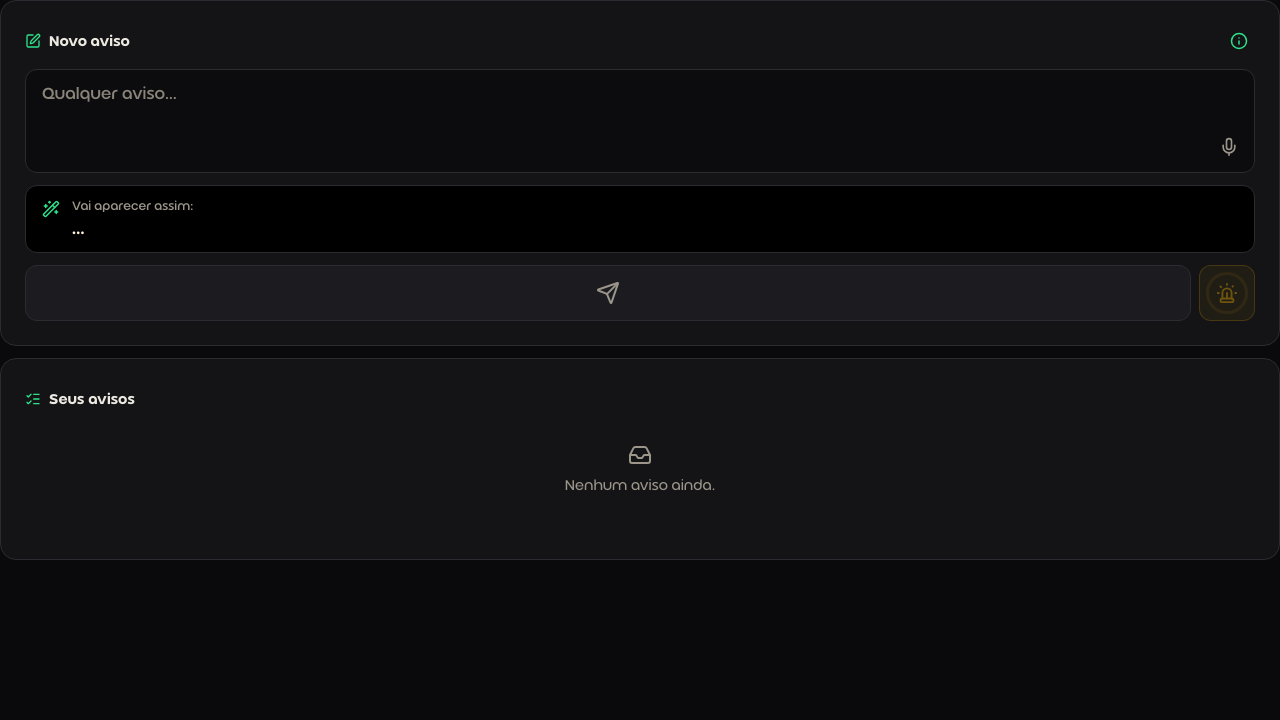
SendTab: campo e prévia › admin sem placa: selo aviso livre
The image size is (1280, 720).
Click the text box labelled "Novo aviso": (640,121) [25,69,1255,173]
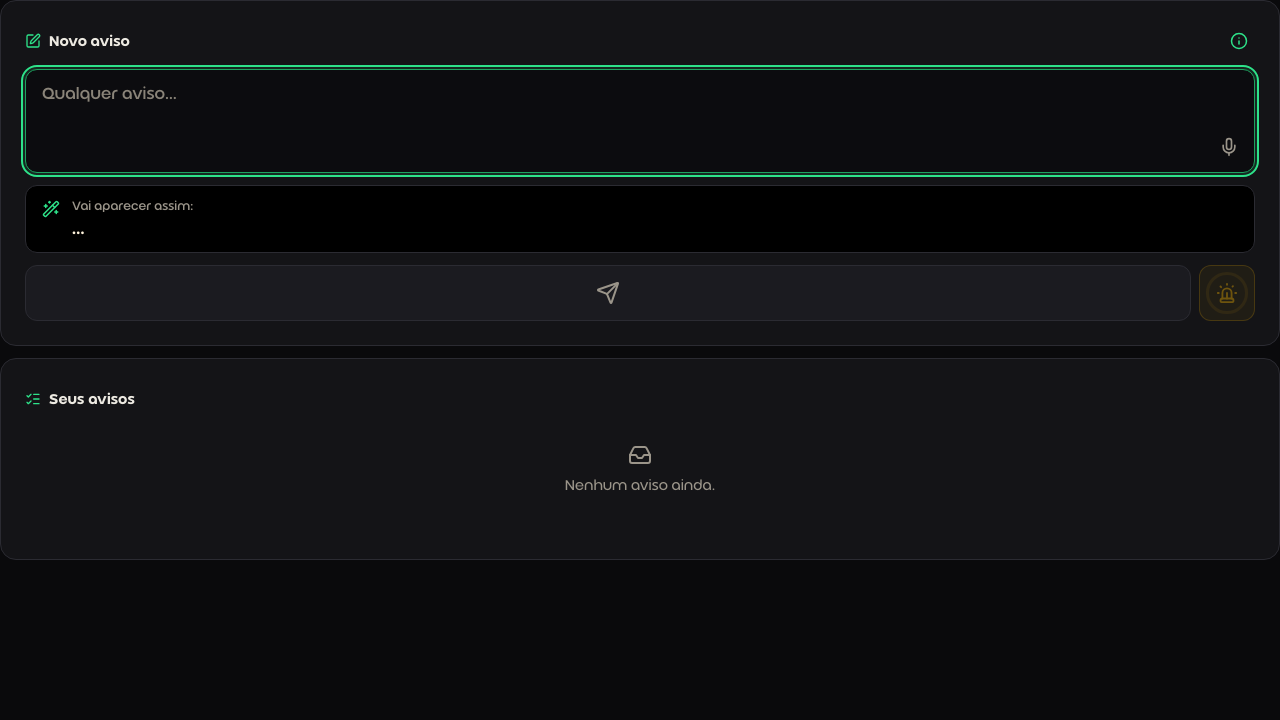
Type keys "pais do pedro chegou"
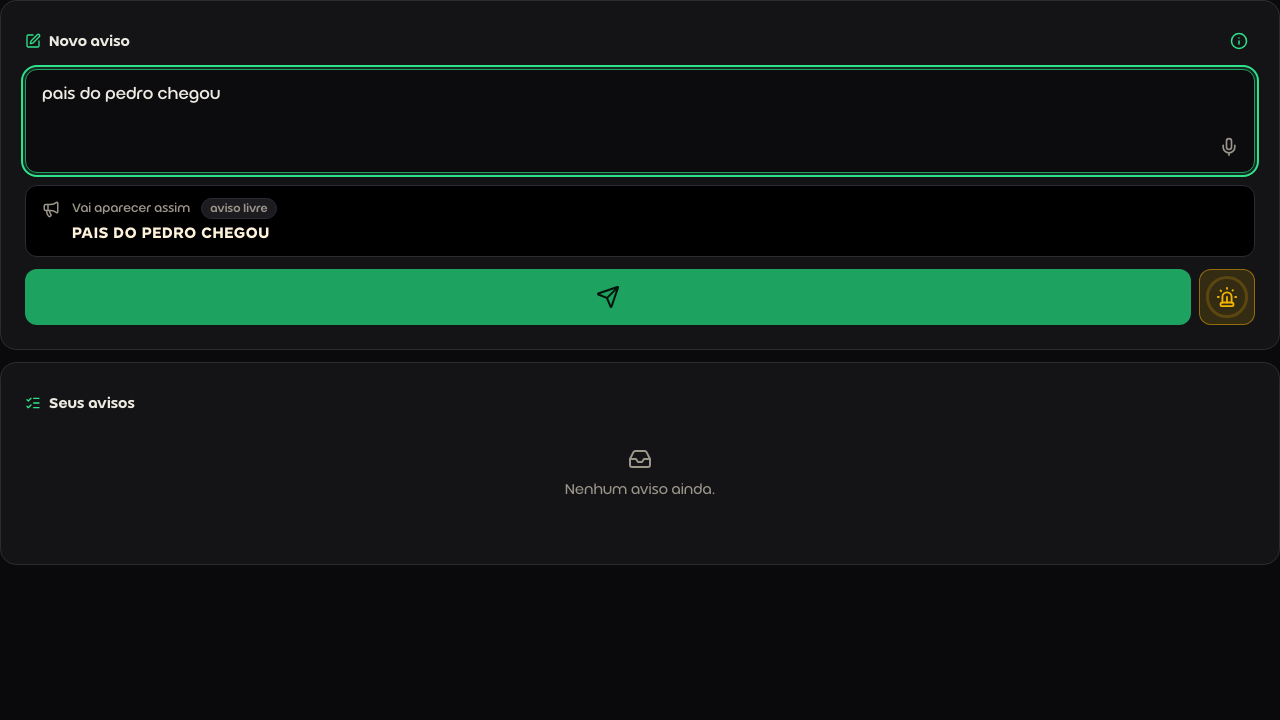
Now the text "aviso livre" is shown, box [201,198,277,219]
Now the text "PAIS DO PEDRO CHEGOU" is shown, box [72,224,270,242]
